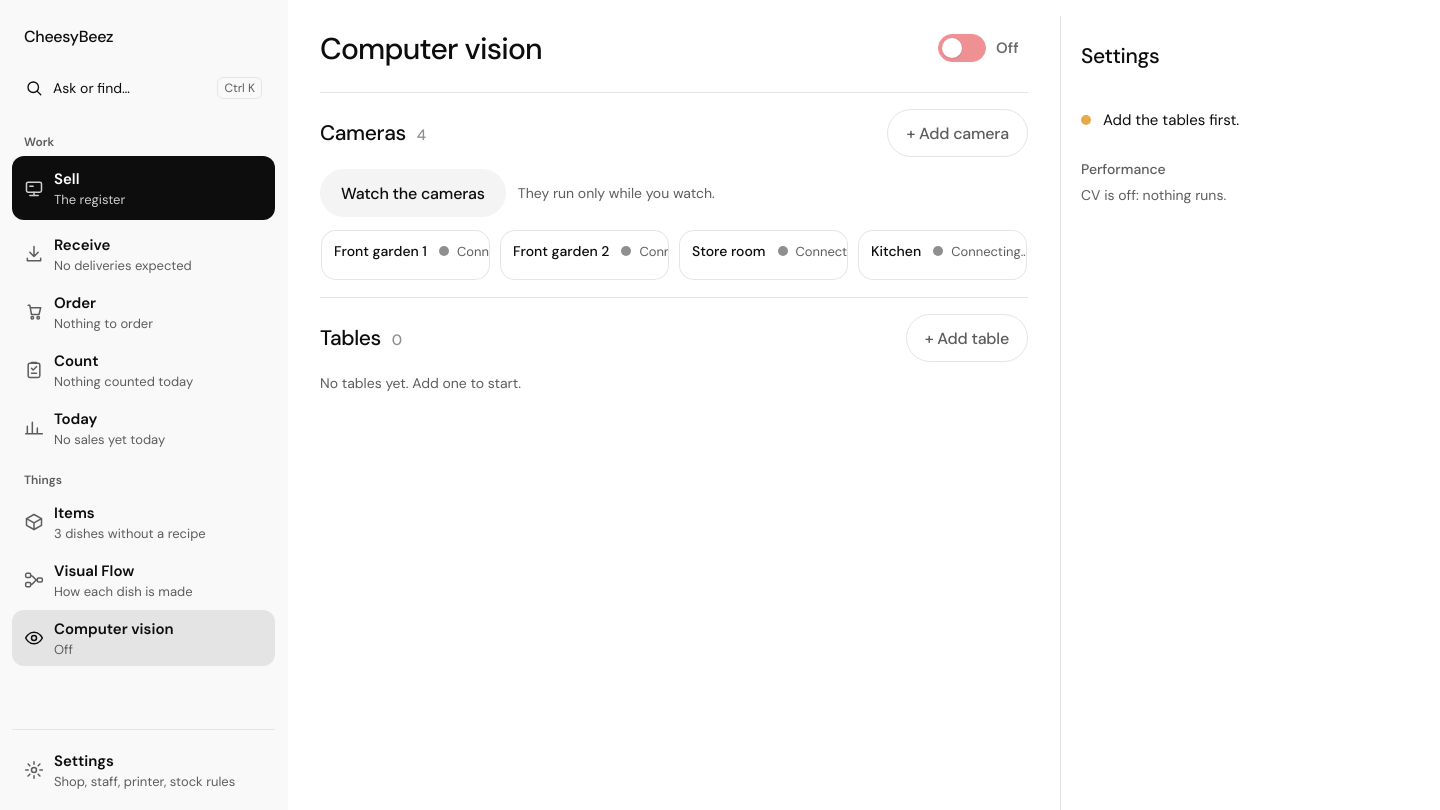
Test: a wrong PIN watches nothing and is asked again
The image size is (1440, 810).
Click the button "Watch the cameras". click: (413, 193)
box: [320, 169, 506, 217]
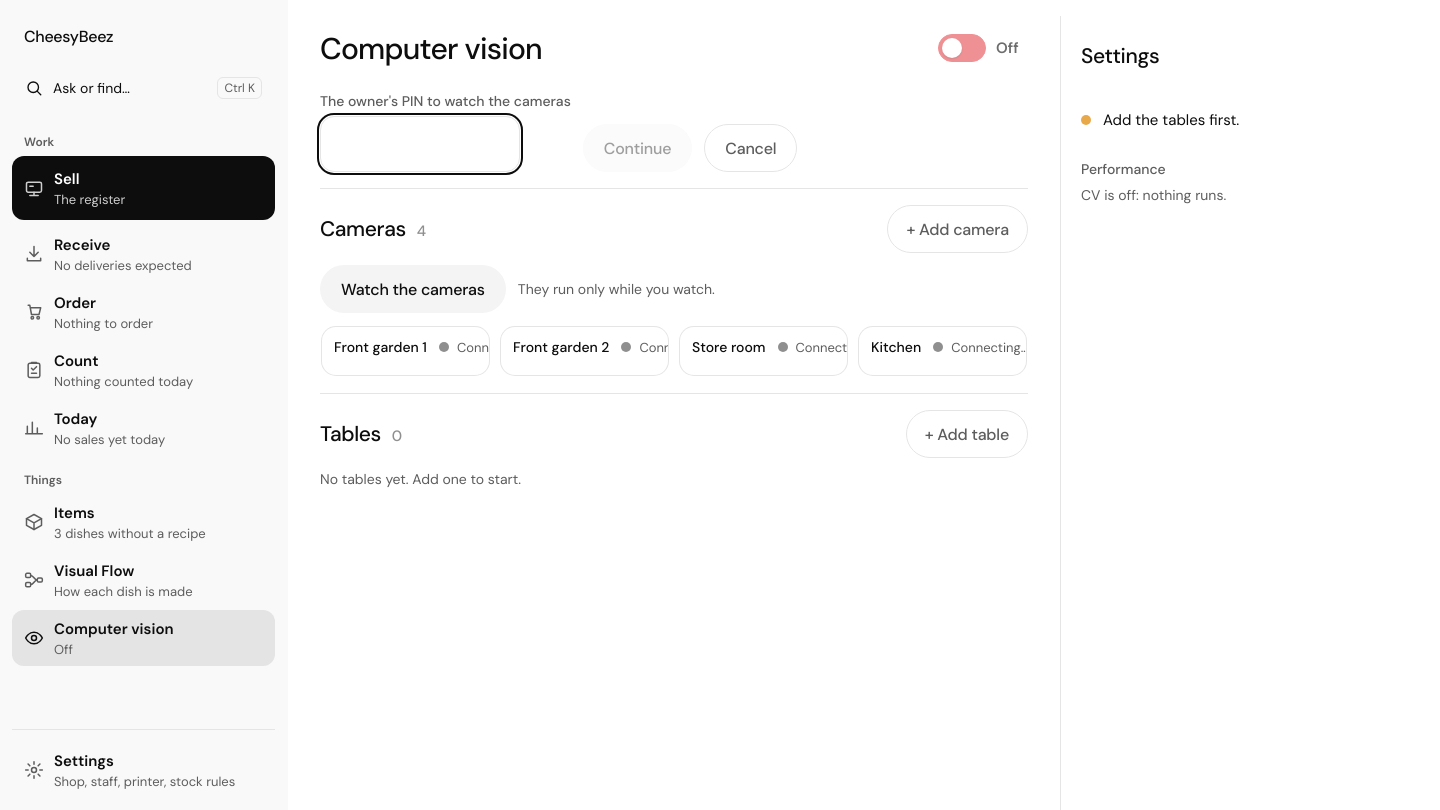
Type "9999" into the password field labelled "The owner's PIN to watch the cameras". click: (420, 144)
box: [320, 116, 520, 172]
Then press Enter
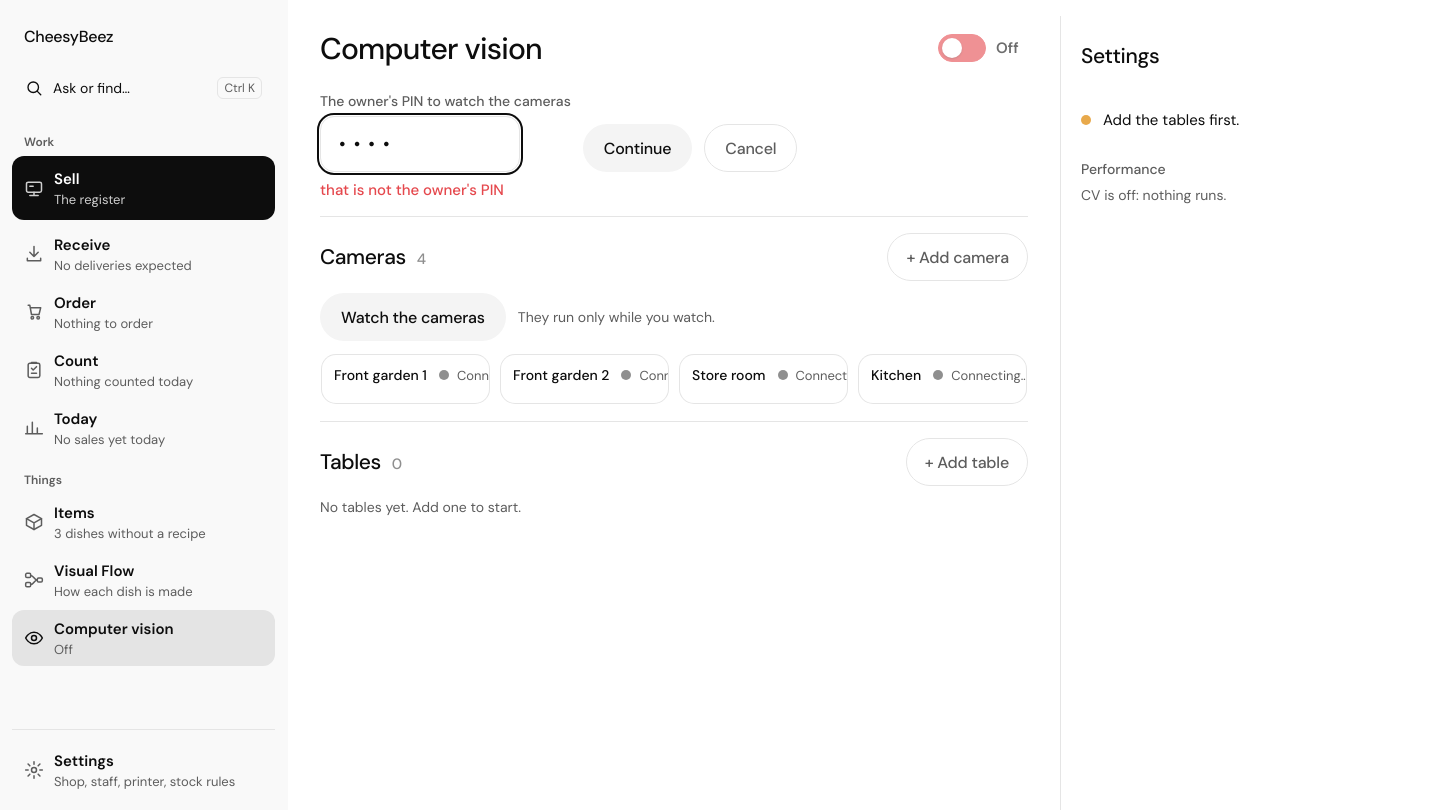
Expected: the message reads "that is not the owner's PIN", [320, 180, 504, 200]
